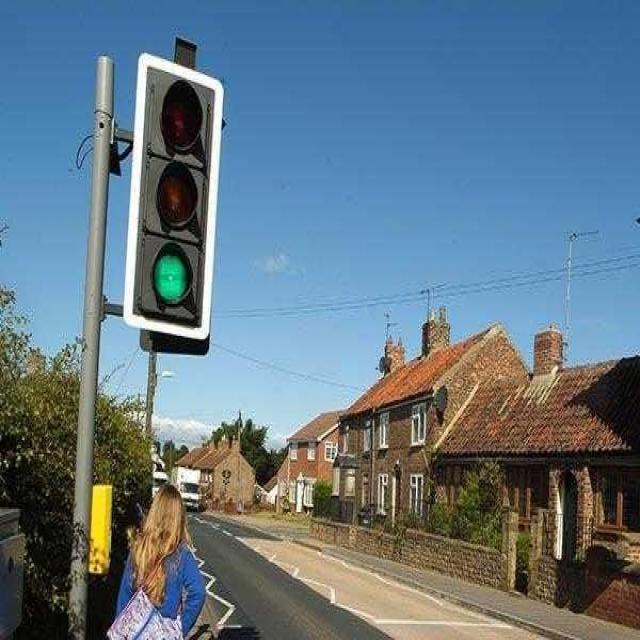red_light: (140, 50, 207, 338), (154, 61, 212, 160), (140, 244, 200, 322), (152, 160, 200, 232)
